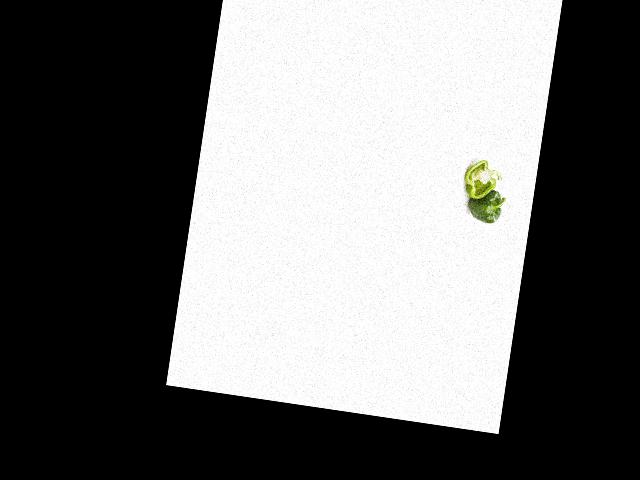bell_pepper: (462, 156, 506, 203)
